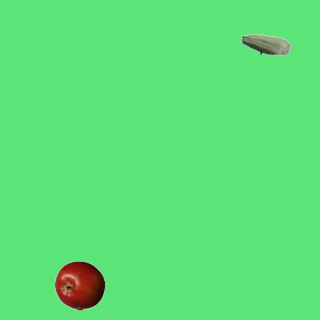Apple Braeburn: (54, 260, 104, 310)
Corn Husk: (240, 19, 290, 69)
